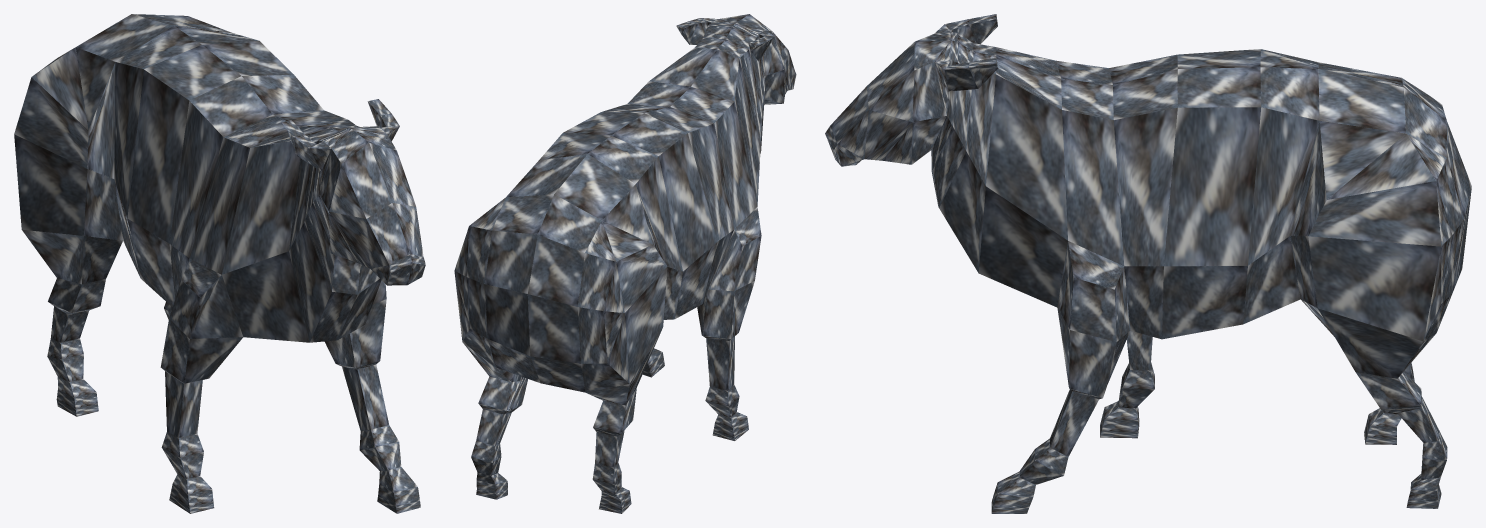
Rendered from SheepIdle_000050.obj.
3 renders of one model, left to right at view 1: azimuth 30°, elevation 25°; view 2: azimuth 150°, elevation 25°; view 3: azimuth 270°, elevation 25°, orthographic. The views are drawn at different scales.
Parts seen in each view (by area): view 1: Sheep_Cylinder; view 2: Sheep_Cylinder; view 3: Sheep_Cylinder.
Part boxes in pixels (x1,y1,x2,y2): Sheep_Cylinder: (14,14,425,513); Sheep_Cylinder: (454,14,796,513); Sheep_Cylinder: (825,14,1471,513).
Size of the model in its own units: 2.22 by 4.4 by 5.92.
